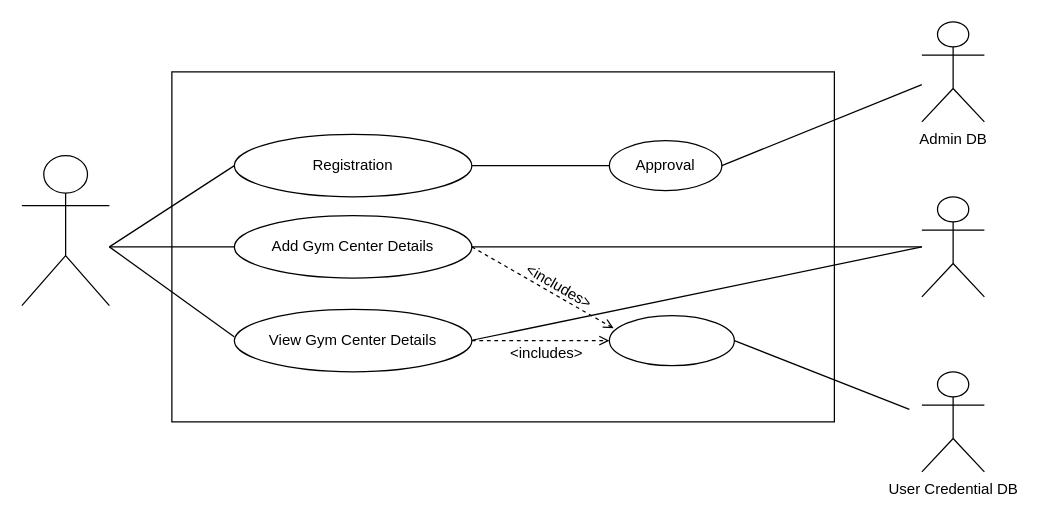
This 1039x520 diagram has some shape labels left out. The shapes that lost their labels are listed below. From the top down, each one's centre as x and y in pixels, then its label:
At point 65,230: "Gym Owner".
At point 952,246: "GYM DB".
At point 671,340: "Credential Verification".
